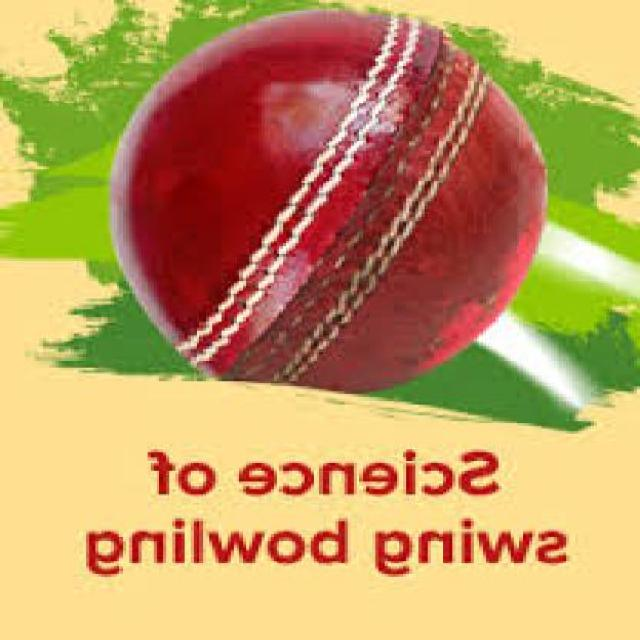ball: (88, 0, 547, 405)
